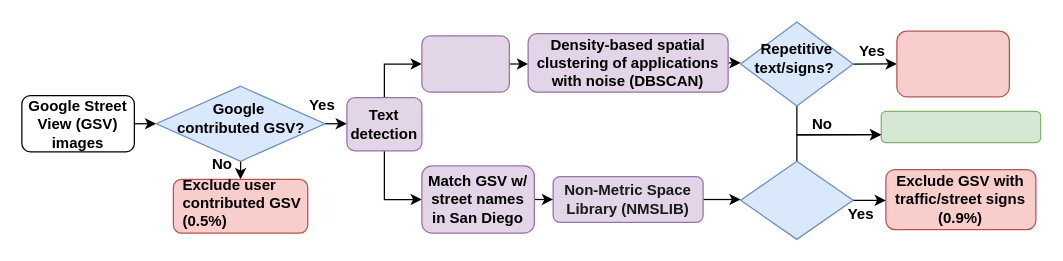
Some shapes in this 1063 by 261 pixel diagram are drawn without their labels. The box of each missing label's shape, as (x1, y1, x2, y2) in pixels:
Exclude GSV with repetitive text (0.6%): (896, 30, 1009, 97)
Group by text: (421, 35, 509, 92)
High quality GSV: (880, 110, 1041, 142)
Street/road signs?: (739, 160, 853, 239)
